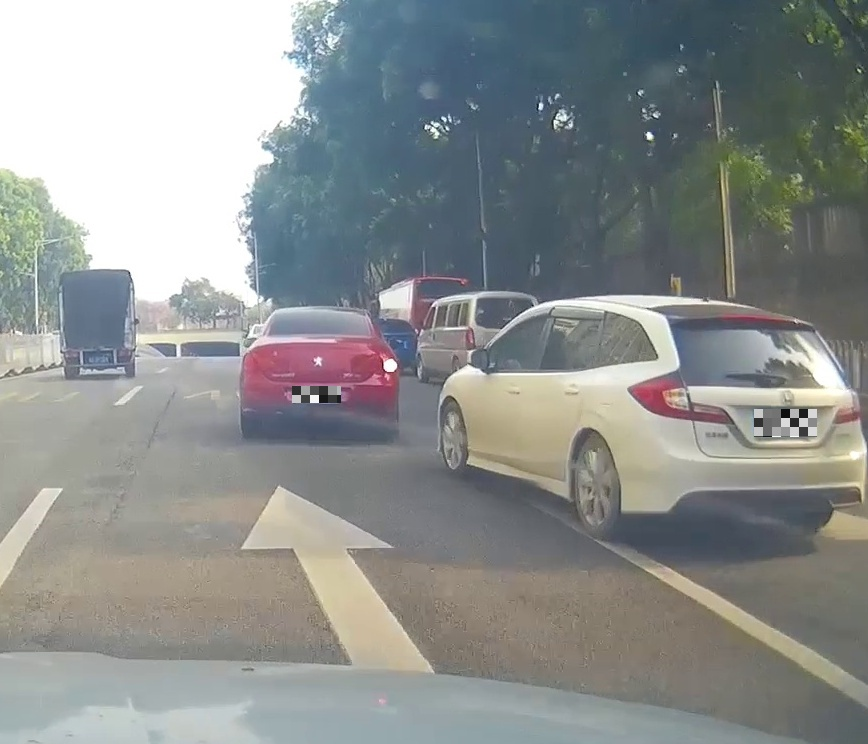L_light: (626, 369, 733, 425), (243, 358, 260, 373), (63, 350, 80, 358)
R_light: (832, 389, 863, 426), (381, 356, 399, 375), (117, 350, 131, 356)
T_light: (725, 314, 799, 327), (312, 311, 332, 317), (87, 272, 102, 275)
day-no: (621, 297, 868, 546), (56, 269, 137, 379)
day-right: (238, 306, 400, 438)
plate_1: (292, 386, 341, 403)
plate_2: (754, 409, 817, 437)
